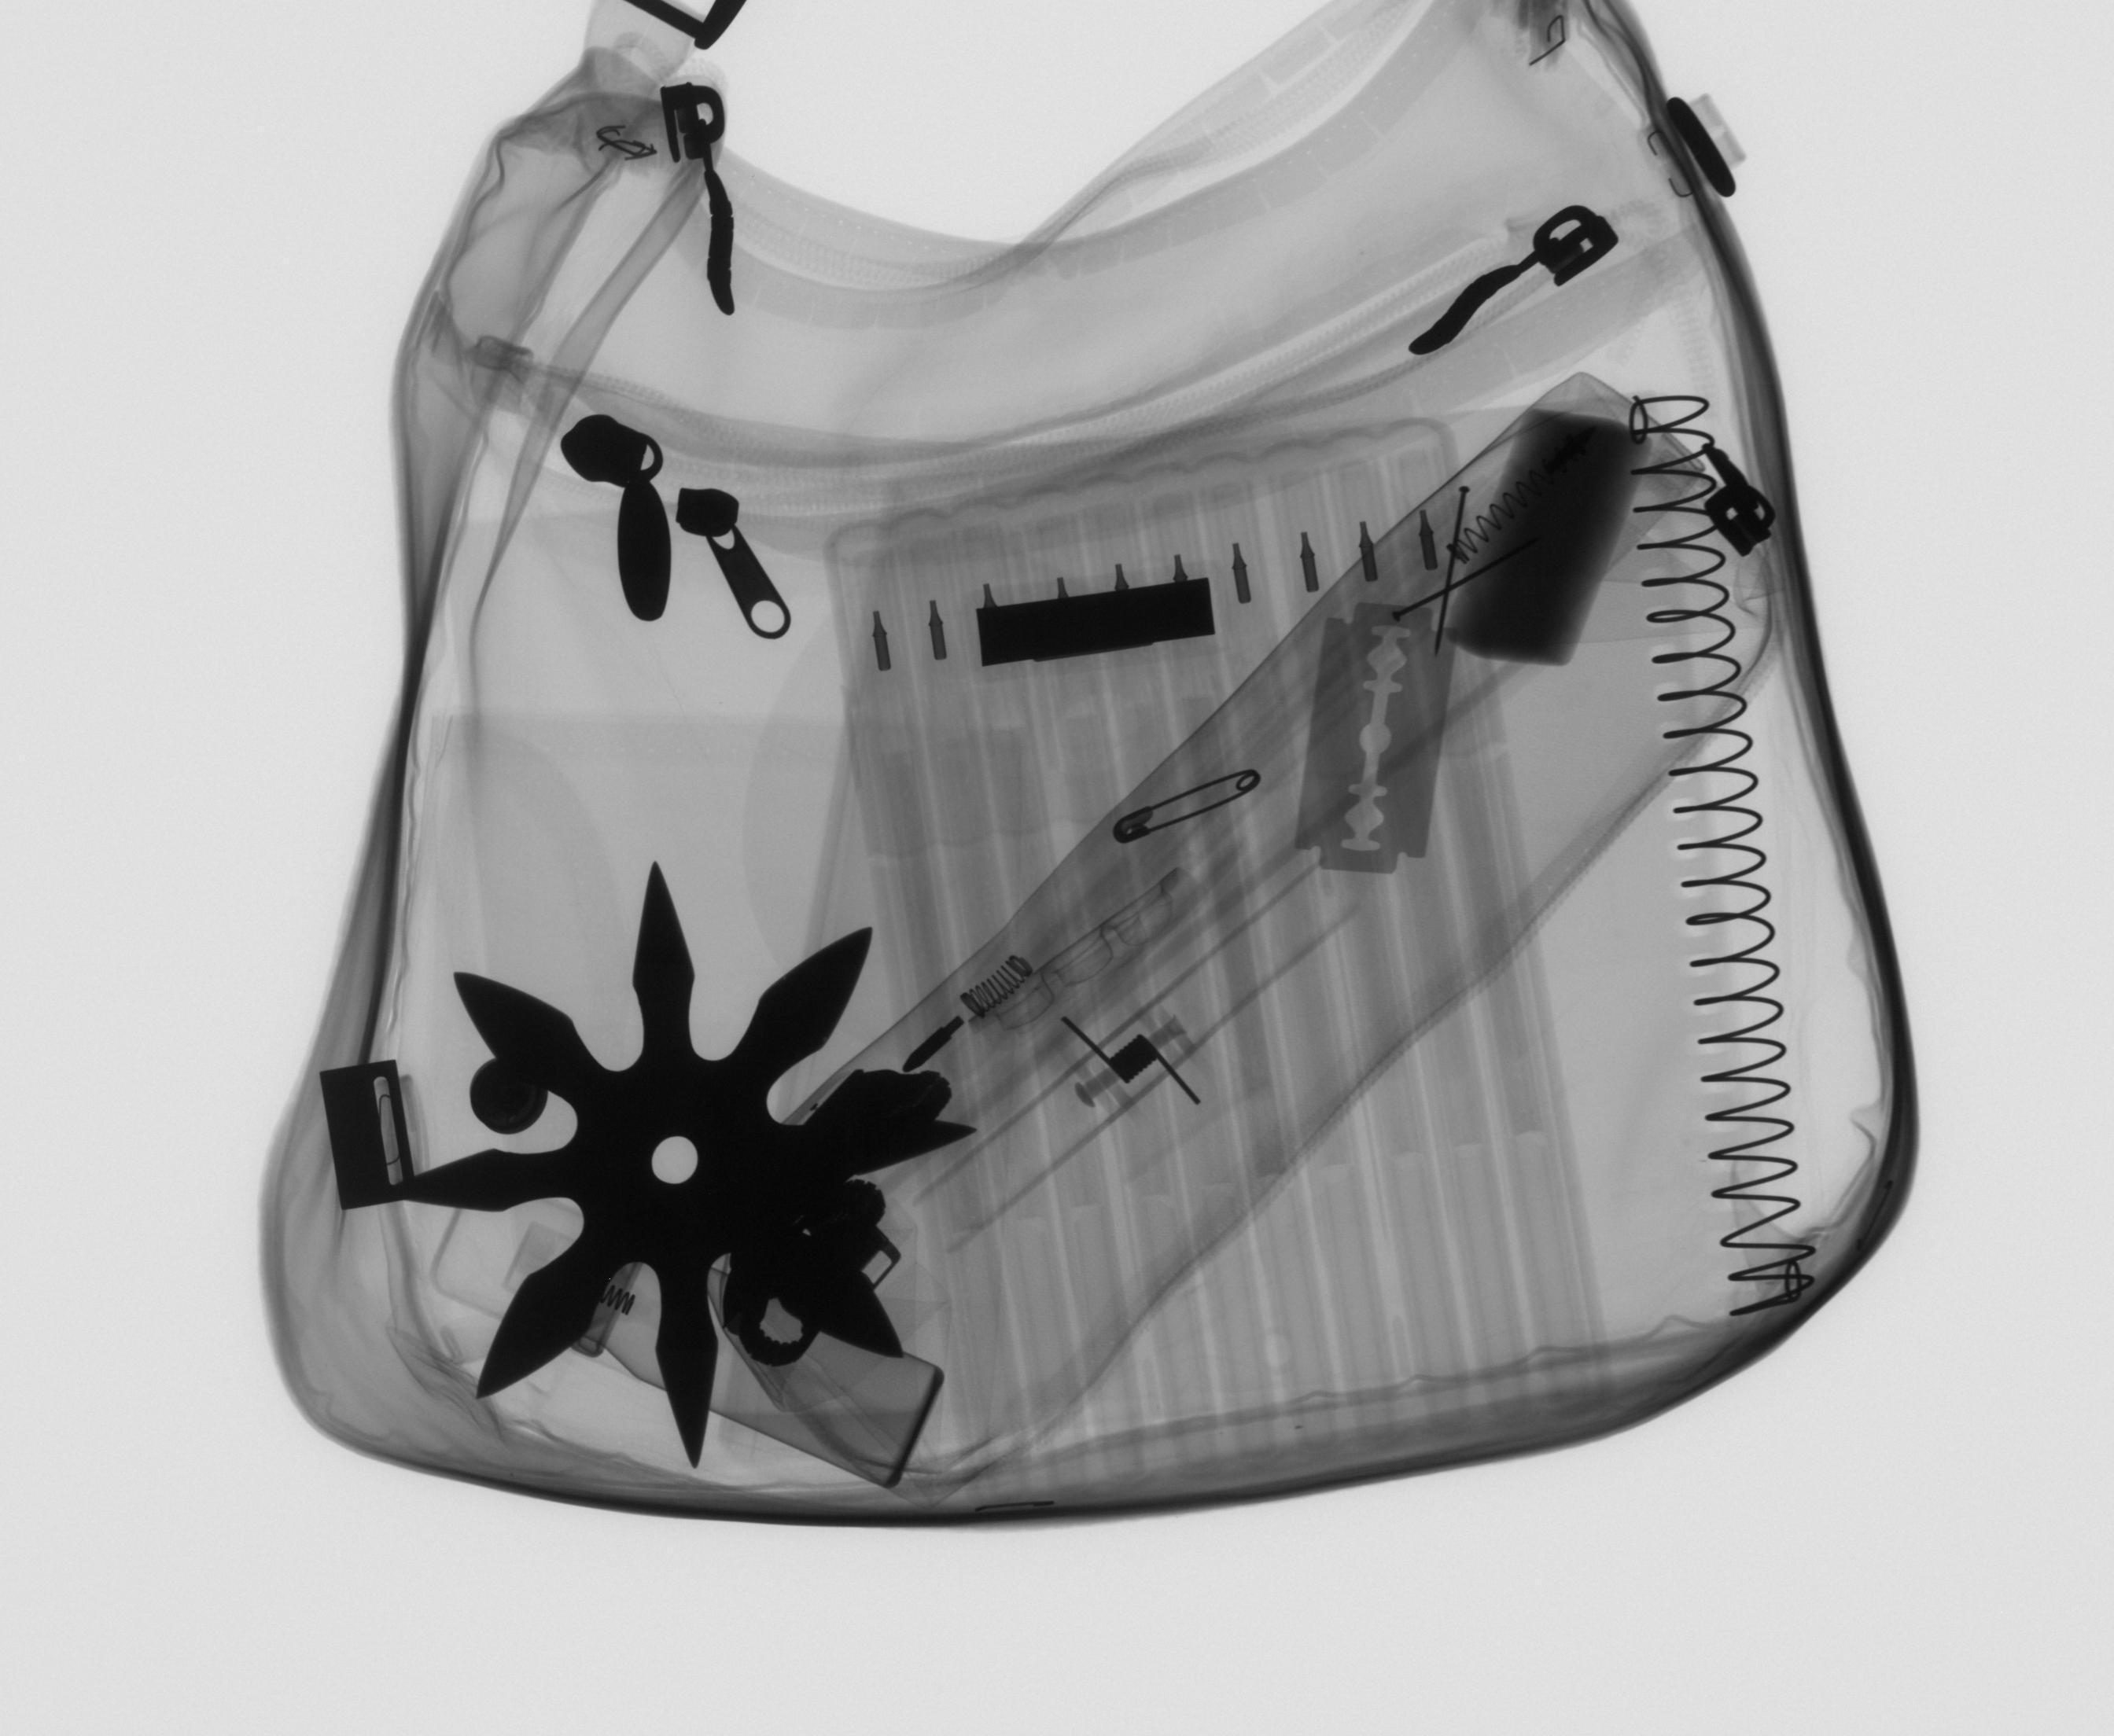RazorBlade: (1283, 592, 1464, 883)
Shuriken: (376, 848, 989, 1474)
